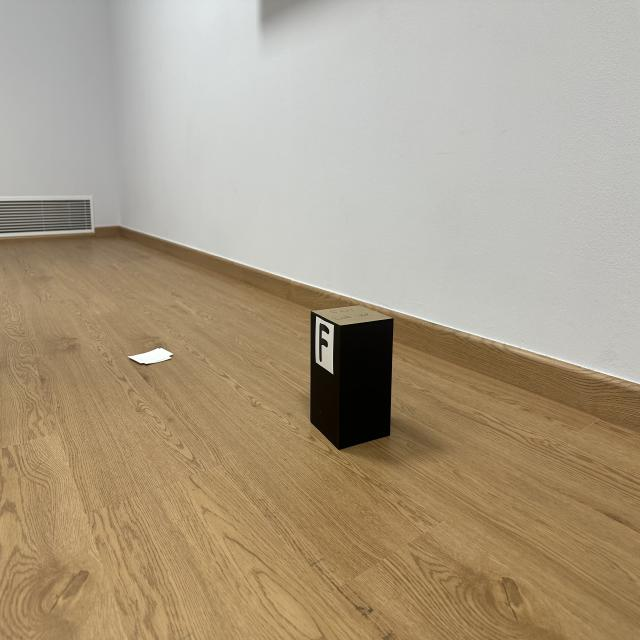F: (319, 323, 330, 362)
